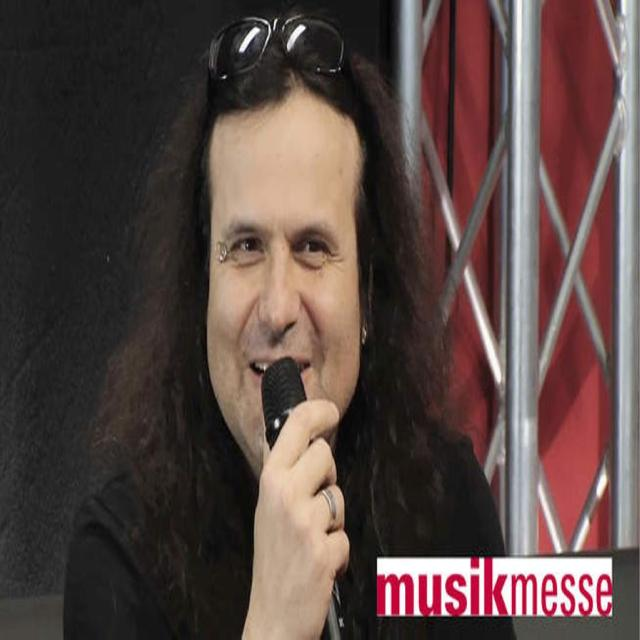Face: (218, 102, 371, 456)
